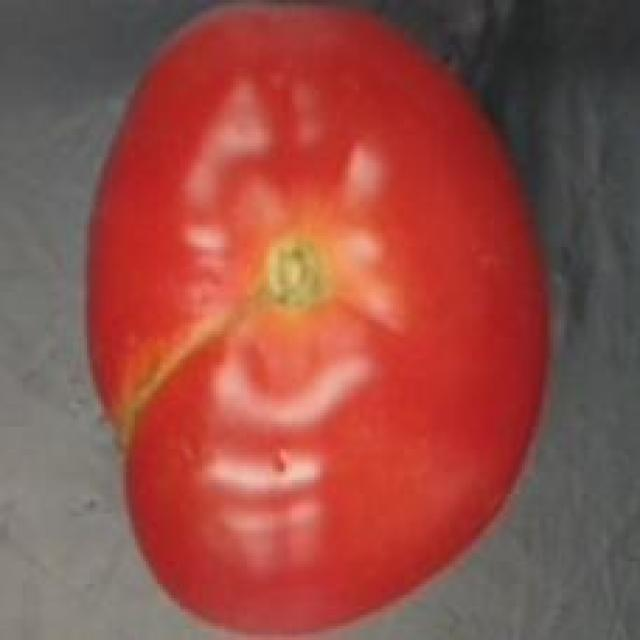overripe tomato: (76, 0, 558, 640)
